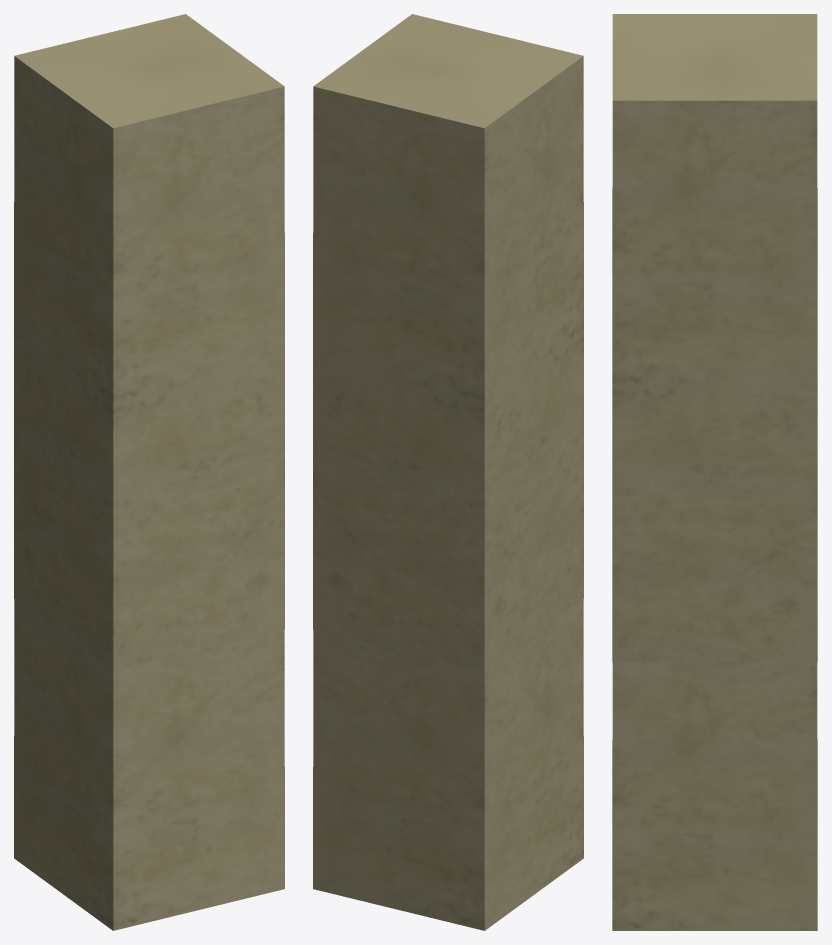
File: trim_column_center.glb
The picture shows the model from 3 angles, left to right: view 1: azimuth 30°, elevation 25°; view 2: azimuth 150°, elevation 25°; view 3: azimuth 270°, elevation 25°; orthographic projection. The views are drawn at different scales.
Parts seen in each view (by area): view 1: Trim_Column_Center; view 2: Trim_Column_Center; view 3: Trim_Column_Center.
Part boxes in pixels (<box>): Trim_Column_Center: <box>14,14,284,930</box>; Trim_Column_Center: <box>313,14,583,930</box>; Trim_Column_Center: <box>612,14,817,930</box>.
Bounding box in the file's own units: 0.6716 × 3 × 0.6716.
1 material, 1 textured.
